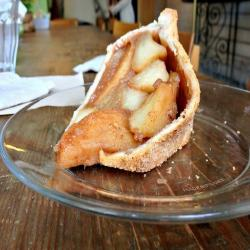apple_pie: (57, 20, 213, 178)
